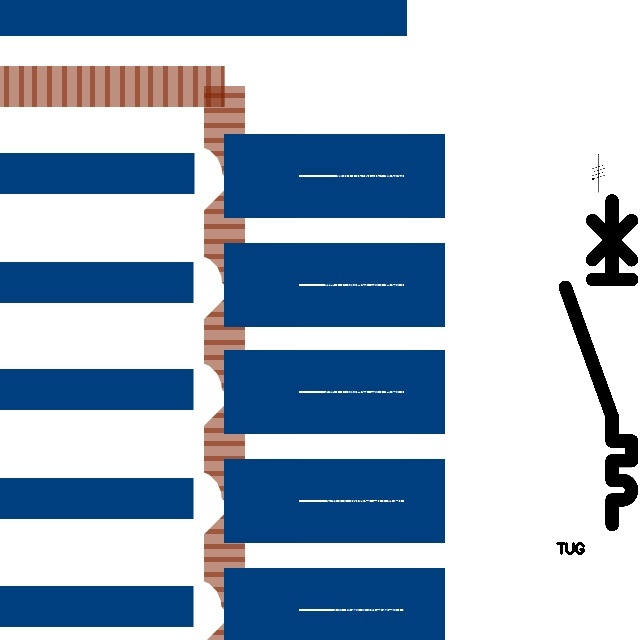interruptor_termomagnetico: (557, 192, 640, 533)
